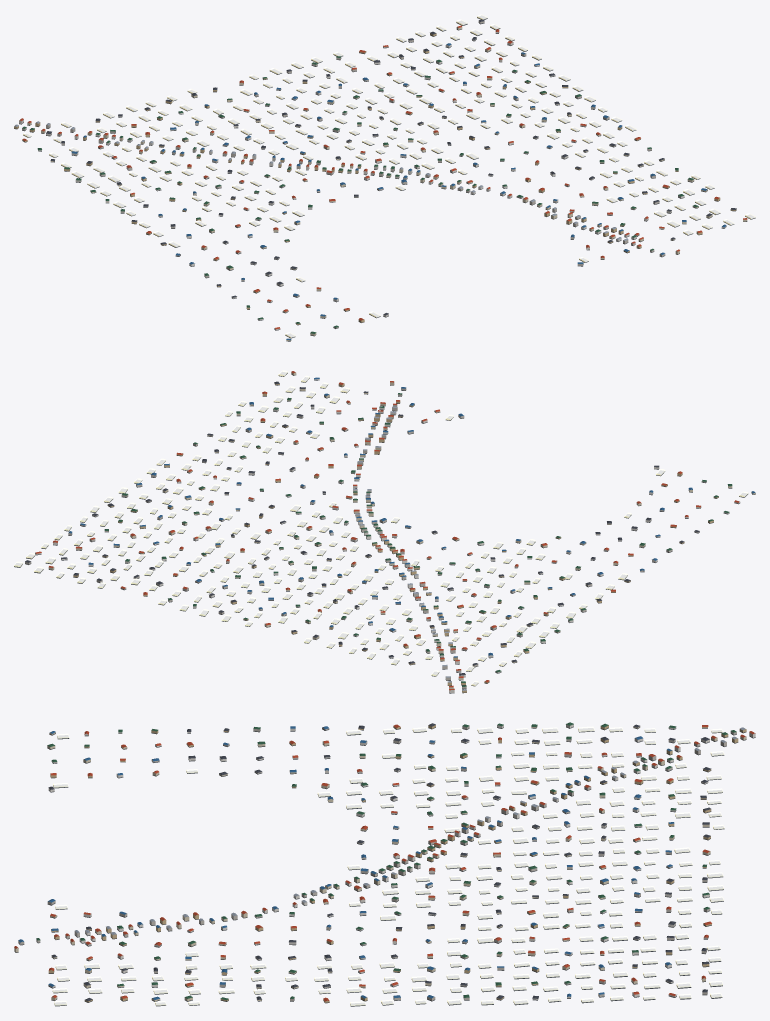
The model's file is buildings_T_W03_N04.glb.
3 views of the same model, one above another, from view 1: azimuth 30°, elevation 25°; view 2: azimuth 150°, elevation 25°; view 3: azimuth 270°, elevation 25° (orthographic). The views are drawn at different scales.
Visible parts, largest first — view 1: T_W03_N04_roofs_agri_greenhouse_arch, T_W03_N04_slope_seating_foundations, T_W03_N04_walls_wall_dalat_cream_stucco, T_W03_N04_walls_wall_modern_warm_white, T_W03_N04_walls_wall_french_ochre_villa, T_W03_N04_roofs_roof_terracotta_gable, T_W03_N04_walls_wall_pastel_sand_gray, T_W03_N04_roofs_roof_pine_green_hip, T_W03_N04_roofs_roof_slate_French_villa_hip, T_W03_N04_roofs_roof_highland_blue_gable; view 2: T_W03_N04_roofs_agri_greenhouse_arch, T_W03_N04_slope_seating_foundations, T_W03_N04_roofs_roof_terracotta_gable, T_W03_N04_walls_wall_pastel_sand_gray, T_W03_N04_walls_wall_dalat_cream_stucco, T_W03_N04_walls_wall_french_ochre_villa, T_W03_N04_walls_wall_modern_warm_white, T_W03_N04_roofs_roof_pine_green_hip, T_W03_N04_roofs_roof_slate_French_villa_hip, T_W03_N04_roofs_roof_highland_blue_gable; view 3: T_W03_N04_roofs_agri_greenhouse_arch, T_W03_N04_slope_seating_foundations, T_W03_N04_walls_wall_dalat_cream_stucco, T_W03_N04_walls_wall_pastel_sand_gray, T_W03_N04_walls_wall_modern_warm_white, T_W03_N04_walls_wall_french_ochre_villa, T_W03_N04_roofs_roof_terracotta_gable, T_W03_N04_roofs_roof_pine_green_hip, T_W03_N04_roofs_roof_slate_French_villa_hip, T_W03_N04_roofs_roof_highland_blue_gable.
Part boxes in pixels (x1,y1,x2,y2): T_W03_N04_roofs_agri_greenhouse_arch: [23, 14, 755, 337]; T_W03_N04_slope_seating_foundations: [14, 16, 755, 341]; T_W03_N04_walls_wall_dalat_cream_stucco: [27, 26, 747, 341]; T_W03_N04_walls_wall_modern_warm_white: [19, 31, 726, 330]; T_W03_N04_walls_wall_french_ochre_villa: [14, 33, 736, 324]; T_W03_N04_roofs_roof_terracotta_gable: [19, 25, 747, 329]; T_W03_N04_walls_wall_pastel_sand_gray: [22, 21, 665, 328]; T_W03_N04_roofs_roof_pine_green_hip: [22, 56, 698, 333]; T_W03_N04_roofs_roof_slate_French_villa_hip: [46, 19, 736, 315]; T_W03_N04_roofs_roof_highland_blue_gable: [71, 43, 726, 340]; T_W03_N04_roofs_agri_greenhouse_arch: [14, 370, 748, 685]; T_W03_N04_slope_seating_foundations: [14, 372, 755, 693]; T_W03_N04_roofs_roof_terracotta_gable: [35, 371, 739, 690]; T_W03_N04_walls_wall_pastel_sand_gray: [25, 388, 706, 688]; T_W03_N04_walls_wall_dalat_cream_stucco: [48, 372, 755, 688]; T_W03_N04_walls_wall_french_ochre_villa: [73, 383, 718, 692]; T_W03_N04_walls_wall_modern_warm_white: [35, 379, 740, 692]; T_W03_N04_roofs_roof_pine_green_hip: [104, 393, 732, 686]; T_W03_N04_roofs_roof_slate_French_villa_hip: [25, 381, 699, 675]; T_W03_N04_roofs_roof_highland_blue_gable: [68, 377, 755, 657]; T_W03_N04_roofs_agri_greenhouse_arch: [52, 726, 724, 1005]; T_W03_N04_slope_seating_foundations: [14, 726, 755, 1006]; T_W03_N04_walls_wall_dalat_cream_stucco: [14, 725, 746, 1001]; T_W03_N04_walls_wall_pastel_sand_gray: [18, 726, 736, 1001]; T_W03_N04_walls_wall_modern_warm_white: [48, 724, 755, 999]; T_W03_N04_walls_wall_french_ochre_villa: [48, 725, 746, 1002]; T_W03_N04_roofs_roof_terracotta_gable: [14, 724, 755, 1001]; T_W03_N04_roofs_roof_pine_green_hip: [36, 722, 736, 1000]; T_W03_N04_roofs_roof_slate_French_villa_hip: [48, 723, 711, 1001]; T_W03_N04_roofs_roof_highland_blue_gable: [18, 726, 674, 999].
Size of the model in its own units: 1726 by 55.18 by 1904.
